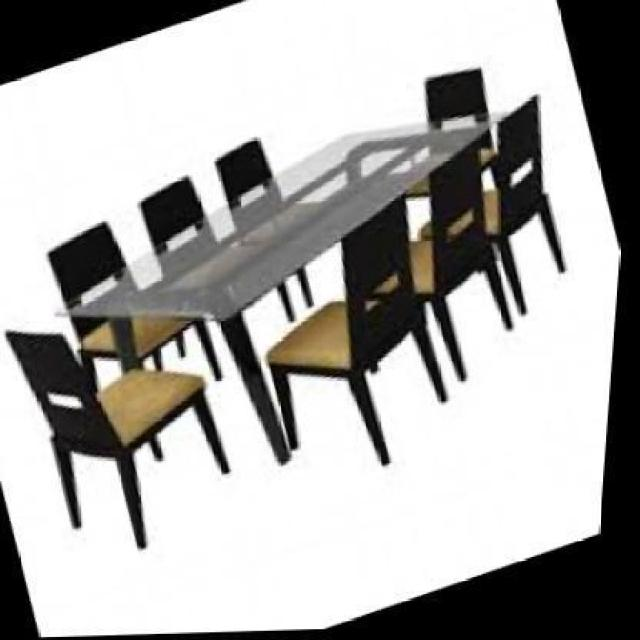tables: (58, 108, 514, 466)
